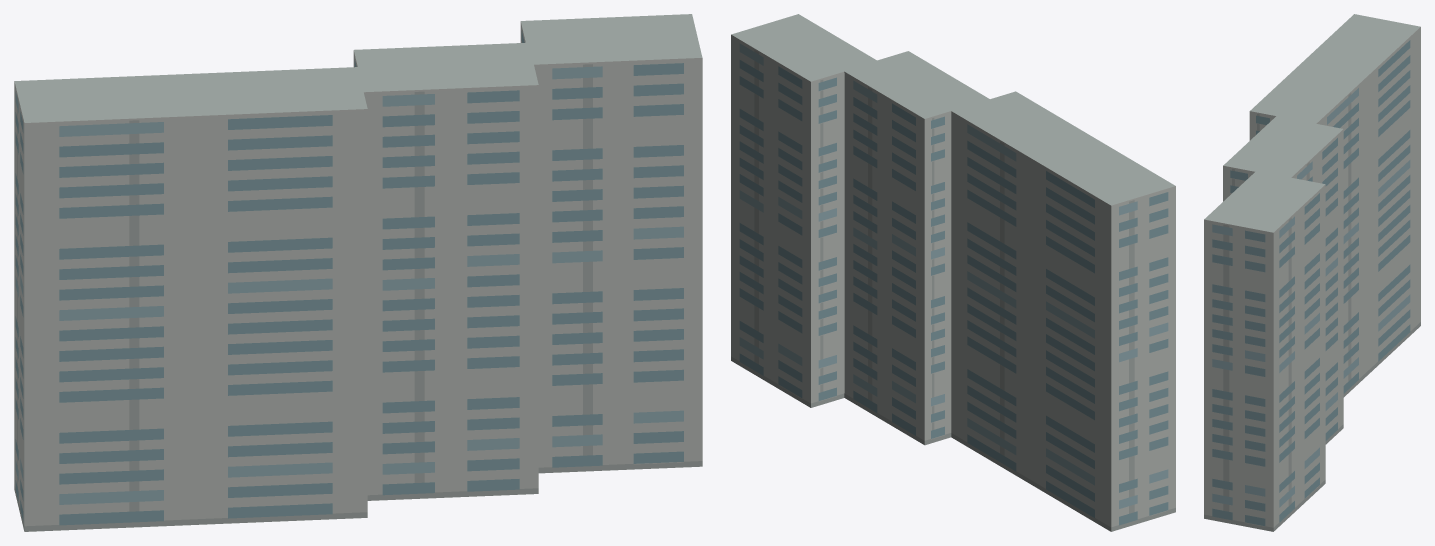
File: residential-b4ef5509-35e1-4104-876c-3f58bef86b8c.glb
3 renders of one model, left to right at view 1: azimuth 30°, elevation 25°; view 2: azimuth 150°, elevation 25°; view 3: azimuth 270°, elevation 25°, orthographic. The views are drawn at different scales.
Visible parts, largest first — view 1: residential-b4ef5509-35e1-4104-876c-3f58bef86b8c.tmp; view 2: residential-b4ef5509-35e1-4104-876c-3f58bef86b8c.tmp; view 3: residential-b4ef5509-35e1-4104-876c-3f58bef86b8c.tmp.
Part boxes in pixels (x1,y1,x2,y2): residential-b4ef5509-35e1-4104-876c-3f58bef86b8c.tmp: [14, 14, 702, 531]; residential-b4ef5509-35e1-4104-876c-3f58bef86b8c.tmp: [731, 14, 1175, 531]; residential-b4ef5509-35e1-4104-876c-3f58bef86b8c.tmp: [1204, 14, 1420, 531].
Size of the model in its own units: 84.67 by 54 by 35.48.
